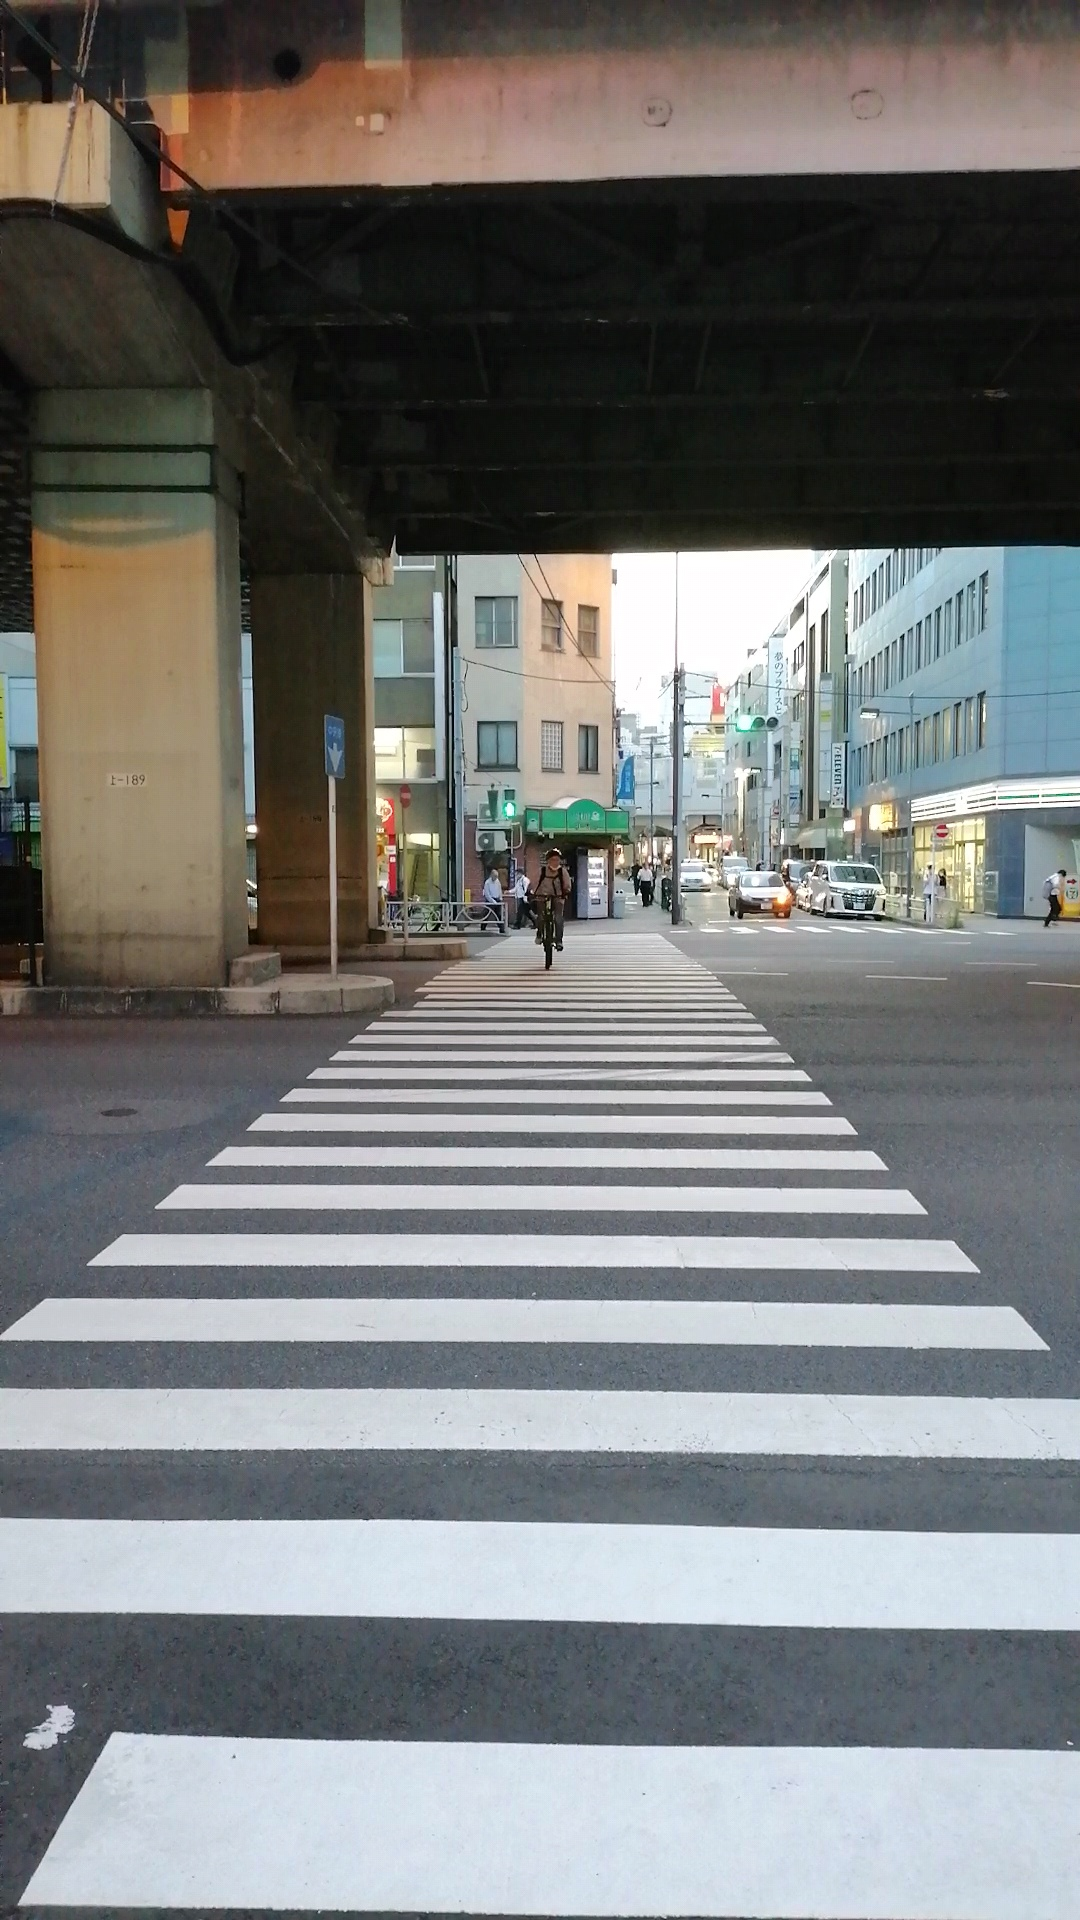green: (500, 787, 517, 820)
